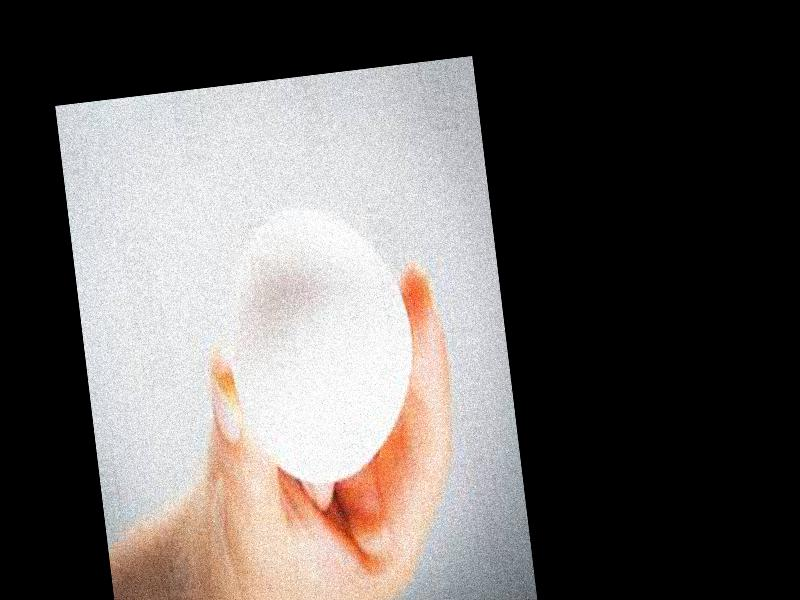Eggs: (214, 200, 427, 481)
